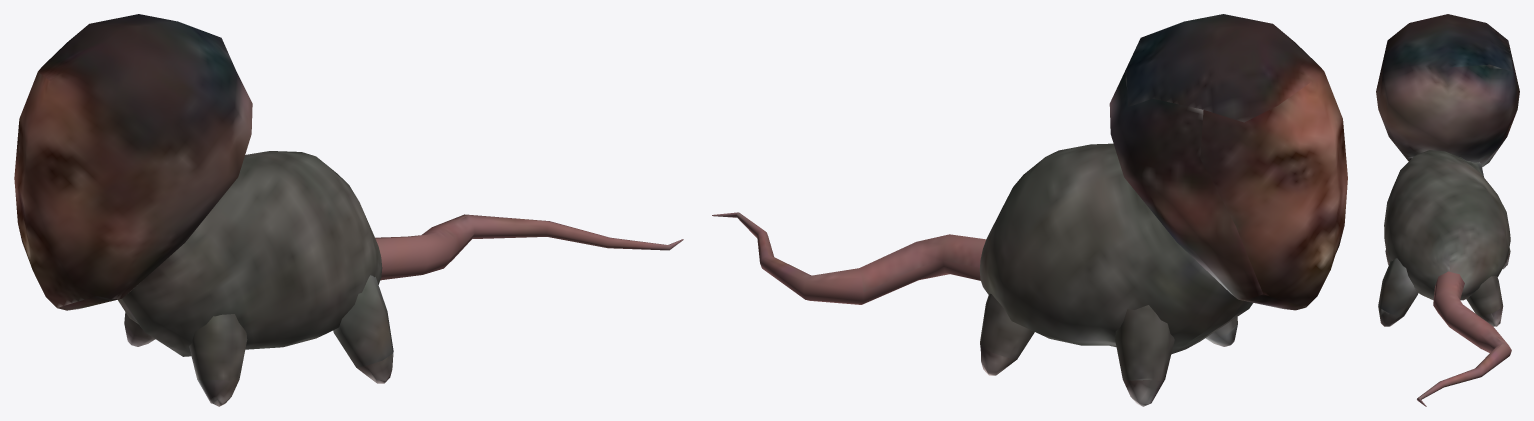
Rendered from rarouf_F.fbx.
3 renders of one model, left to right at view 1: azimuth 30°, elevation 25°; view 2: azimuth 150°, elevation 25°; view 3: azimuth 270°, elevation 25°, orthographic. The views are drawn at different scales.
Parts seen in each view (by area): view 1: head__rarouf, body_rarouf, paws_rarouf; view 2: head__rarouf, body_rarouf, paws_rarouf; view 3: body_rarouf, head__rarouf, paws_rarouf.
Part boxes in pixels (<box>): head__rarouf: <box>14,14,252,310</box>; body_rarouf: <box>118,151,683,356</box>; paws_rarouf: <box>124,275,393,406</box>; head__rarouf: <box>1109,14,1347,310</box>; body_rarouf: <box>712,143,1252,354</box>; paws_rarouf: <box>980,293,1237,406</box>; body_rarouf: <box>1384,150,1511,406</box>; head__rarouf: <box>1376,14,1519,167</box>; paws_rarouf: <box>1378,248,1510,326</box>.
Size of the model in its own units: 3.32 by 1.83 by 0.9793.
